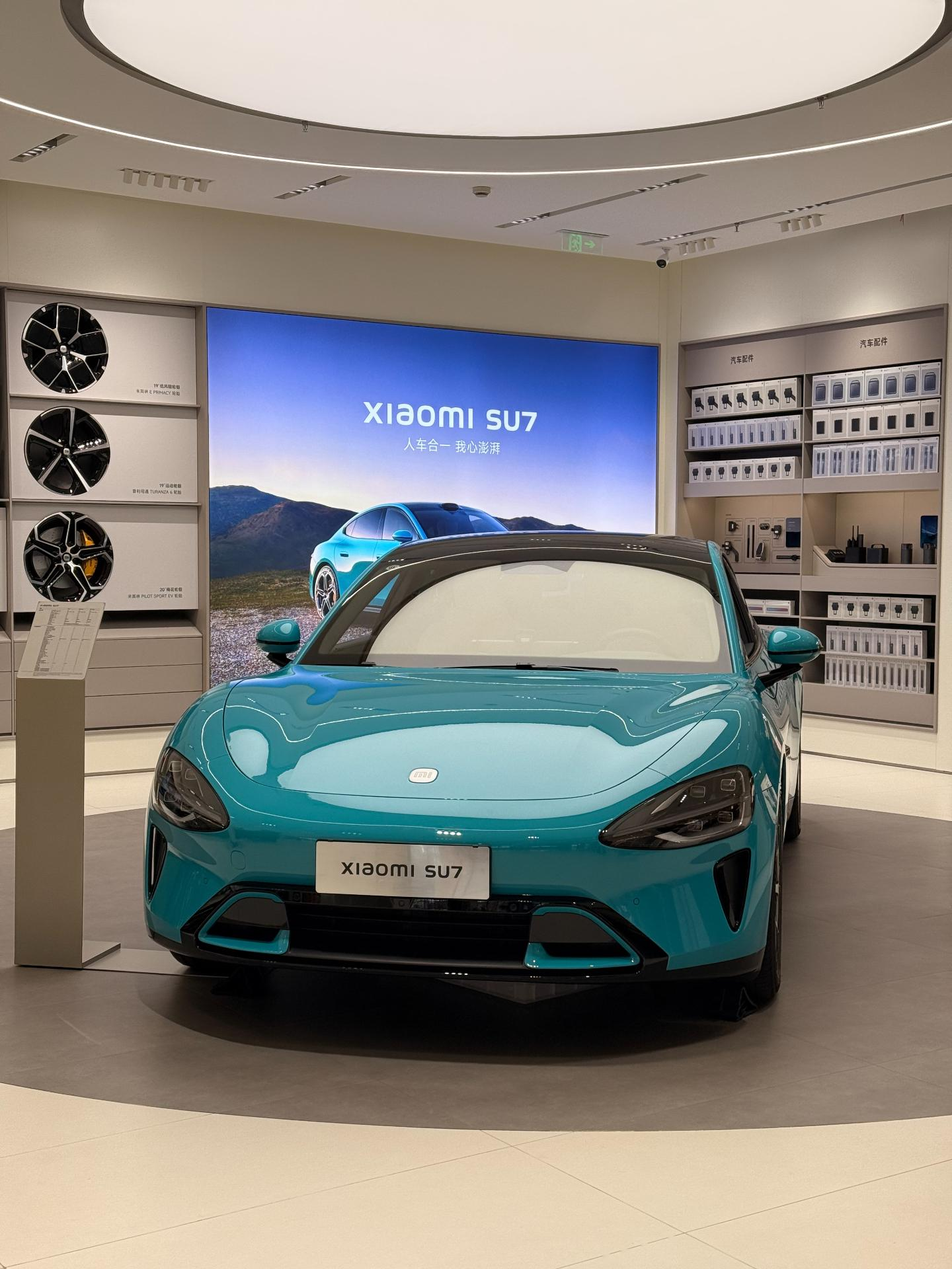su7: (146, 514, 814, 998)
